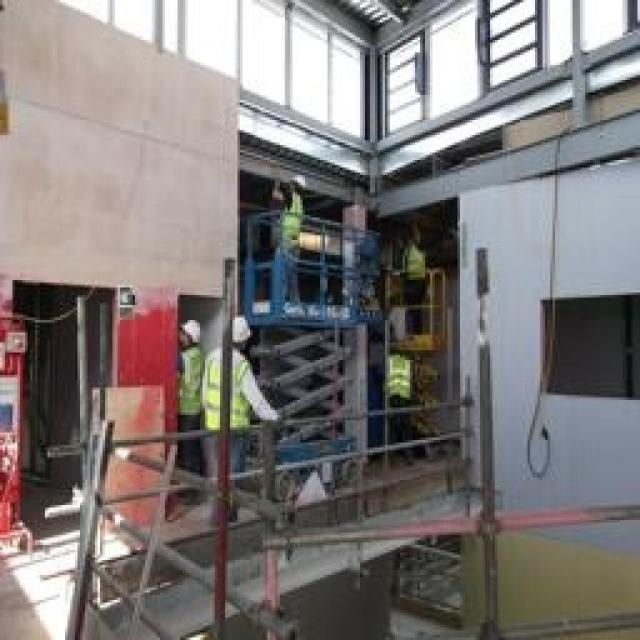Helmet: (220, 307, 264, 352), (172, 310, 210, 355), (278, 162, 316, 202), (404, 222, 438, 260), (385, 335, 421, 362)
Safety Vest: (172, 343, 212, 444), (207, 341, 245, 447), (397, 247, 437, 316), (272, 198, 317, 255), (387, 350, 415, 420)
